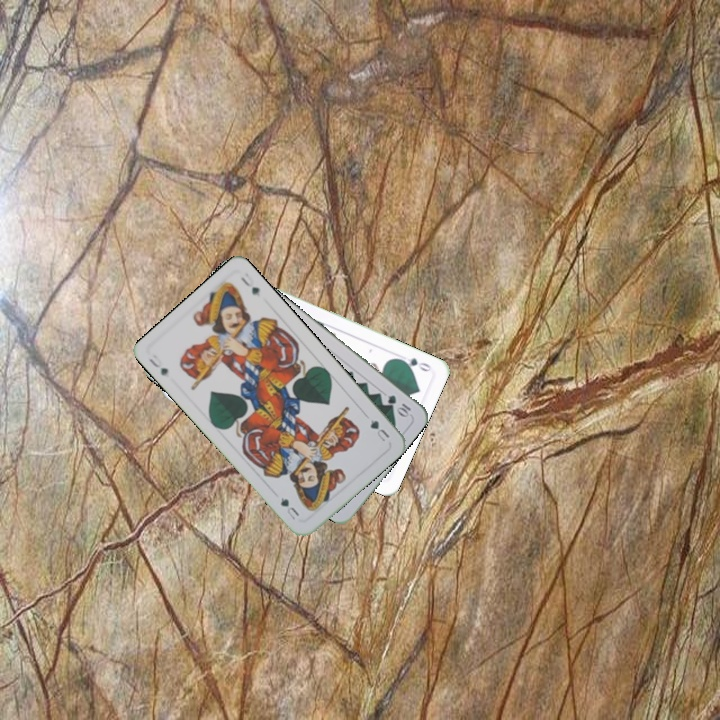G10: (383, 391, 413, 419)
GO: (394, 354, 433, 374)
GU: (366, 415, 392, 446), (144, 350, 171, 378)
